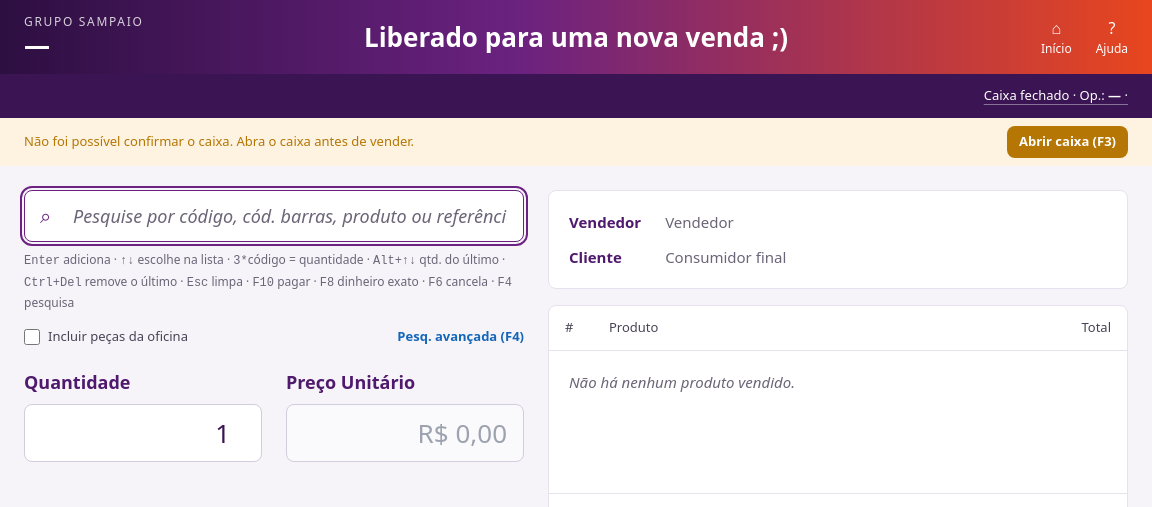
Test case: bipar uma PEÇA não enche o carrinho sozinho › para, pergunta e diz de que bancada é
Type "7890000000024" into the field labelled "Pesquise por código, cód. barras, produto ou referência" at (274, 216), box [24,190,524,242]
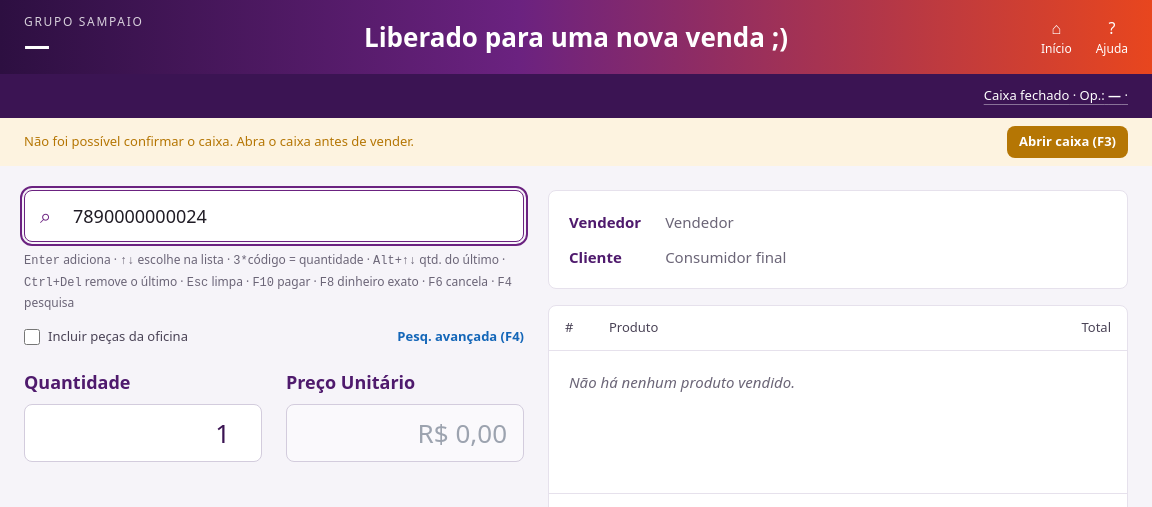
Press Enter in the field named "Pesquise por código", box [24,190,524,242]
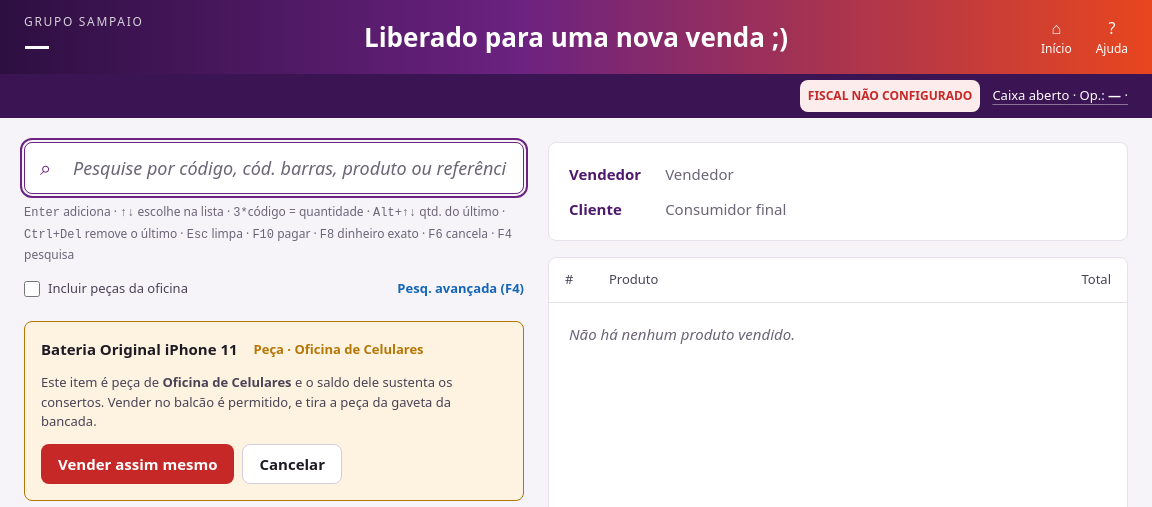
expect the text "Não há nenhum produto vendido." is shown: met, box [569,324,795,344]
expect the dialog shows "Oficina de Celulares": met, box [162,373,292,391]
expect the dialog shows "Bateria Original iPhone 11": met, box [41,339,238,359]
